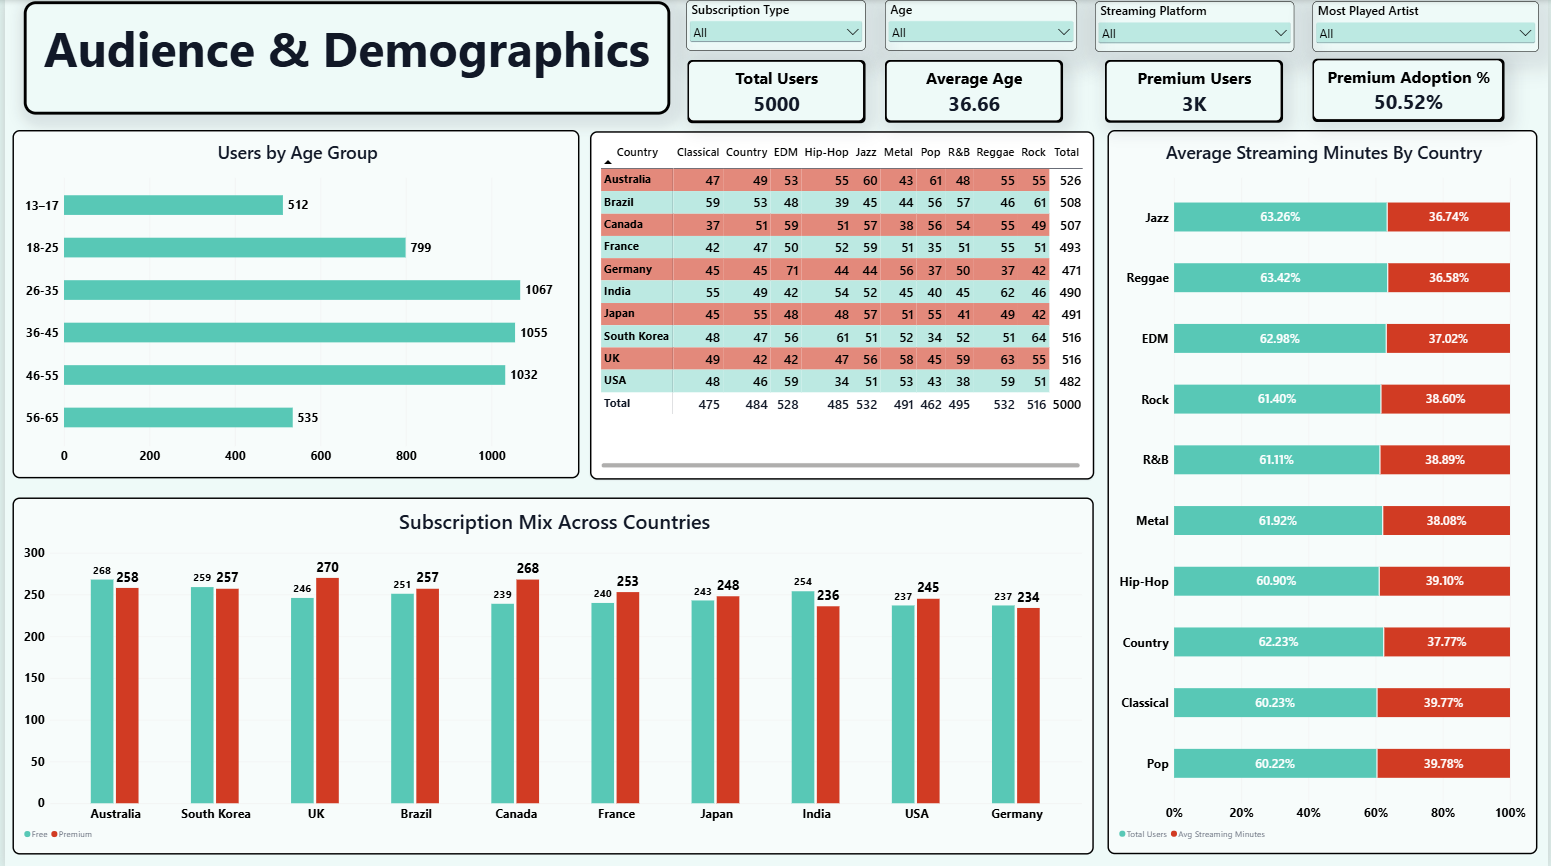

This screenshot's page, from the dashboard's own definition file:
{"tool":"powerbi","page":{"name":"Demographics","canvas":[2560,1440],"ordinal":1},"visuals":[{"type":"textbox","box":[30.2,2.3,1072.1,188.4],"z":0},{"type":"barChart","title":" Users by Age Group","fields":{"Category":["cleaned_music_data (1).Age Group"],"Y":["Table.Total Users"]},"box":[11.8,215.5,940.3,577.9],"z":1000},{"type":"clusteredColumnChart","title":" Subscription Mix Across Countries","fields":{"Category":["cleaned_music_data (1).Country"],"Series":["cleaned_music_data (1).Subscription Type"],"Y":["Table.Total Users"]},"box":[11.8,824.3,1793,592.2],"z":2000},{"type":"pivotTable","fields":{"Rows":["cleaned_music_data (1).Country"],"Values":["Table.Total Users"],"Columns":["cleaned_music_data (1).Top Genre"]},"box":[969.2,216.6,836.1,577.9],"z":3000},{"type":"hundredPercentStackedBarChart","title":"Average Streaming Minutes By Country","fields":{"Category":["cleaned_music_data (1).Top Genre"],"Y":["Table.Total Users","Table.Avg Streaming Minutes"]},"box":[1828.6,215.5,713,1200.9],"z":4000},{"type":"slicer","fields":{"Values":["cleaned_music_data (1).Streaming Platform"]},"box":[1807,2.3,330.2,83.7],"z":5000},{"type":"slicer","fields":{"Values":["cleaned_music_data (1).Most Played Artist"]},"box":[2167.4,1.6,375,83.7],"z":6000},{"type":"slicer","fields":{"Values":["cleaned_music_data (1).Subscription Type"]},"box":[1130.2,0,297.7,83.7],"z":7000},{"type":"slicer","fields":{"Values":["cleaned_music_data (1).Age"]},"box":[1458.1,0.8,318.6,83.7],"z":8000},{"type":"cardVisual","fields":{"Data":["Table.Total Users"]},"box":[1132.6,100,295.3,104.7],"z":8001},{"type":"cardVisual","fields":{"Data":["Table.Average Age"]},"box":[1458.1,100,295,104],"z":8002},{"type":"cardVisual","fields":{"Data":["Table.Premium Users"]},"box":[1823.3,100,295,104],"z":8003},{"type":"cardVisual","fields":{"Data":["Table.Premium Adoption %"]},"box":[2167.4,97.7,318.6,104.7],"z":8004}]}

Visuals, with their boxes in screenshot pixels (x1, y1, x2, y2), scaled from the page's 2560x1440 canvas onto the 1551x866 screenshot:
textbox: BBox(18, 1, 668, 115)
" Users by Age Group" barChart: BBox(7, 130, 577, 477)
" Subscription Mix Across Countries" clusteredColumnChart: BBox(7, 496, 1093, 852)
pivotTable - cleaned_music_data (1).Country x Table.Total Users: BBox(587, 130, 1094, 478)
"Average Streaming Minutes By Country" hundredPercentStackedBarChart: BBox(1108, 130, 1540, 852)
slicer - cleaned_music_data (1).Streaming Platform: BBox(1095, 1, 1295, 52)
slicer - cleaned_music_data (1).Most Played Artist: BBox(1313, 1, 1540, 51)
slicer - cleaned_music_data (1).Subscription Type: BBox(685, 0, 865, 50)
slicer - cleaned_music_data (1).Age: BBox(883, 0, 1076, 51)
cardVisual - Table.Total Users: BBox(686, 60, 865, 123)
cardVisual - Table.Average Age: BBox(883, 60, 1062, 123)
cardVisual - Table.Premium Users: BBox(1105, 60, 1283, 123)
cardVisual - Table.Premium Adoption %: BBox(1313, 59, 1506, 122)
